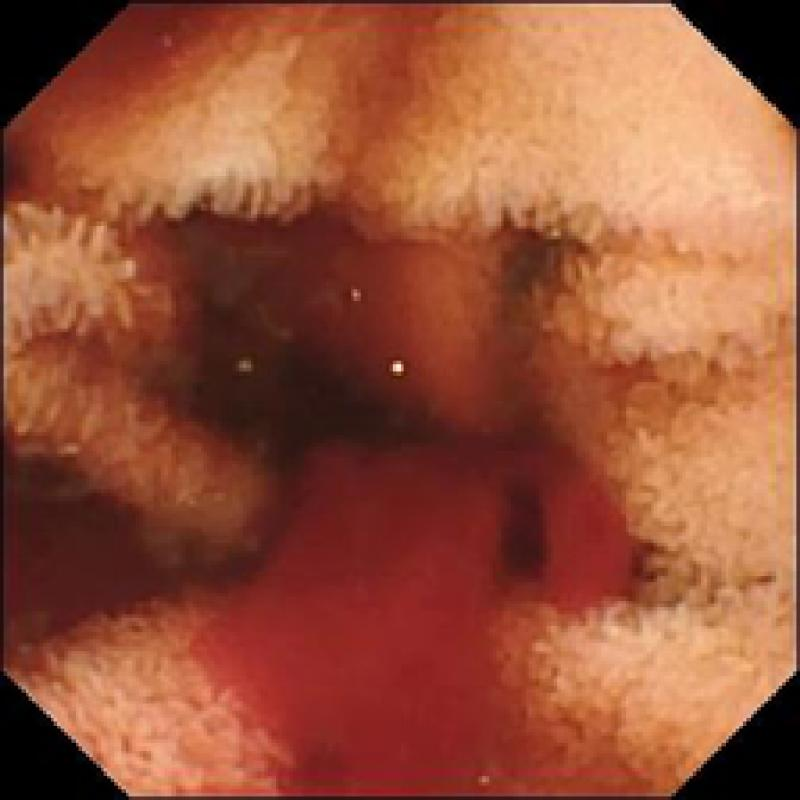bleeding: (189, 414, 657, 800)
